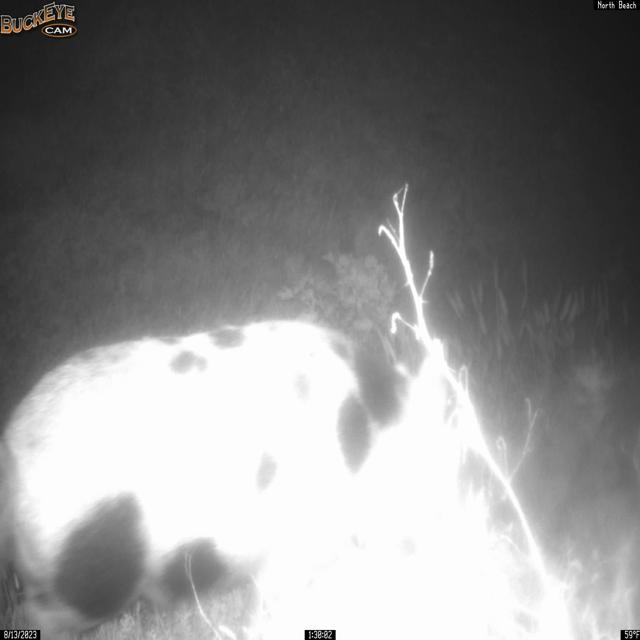pig: (0, 316, 535, 639)
